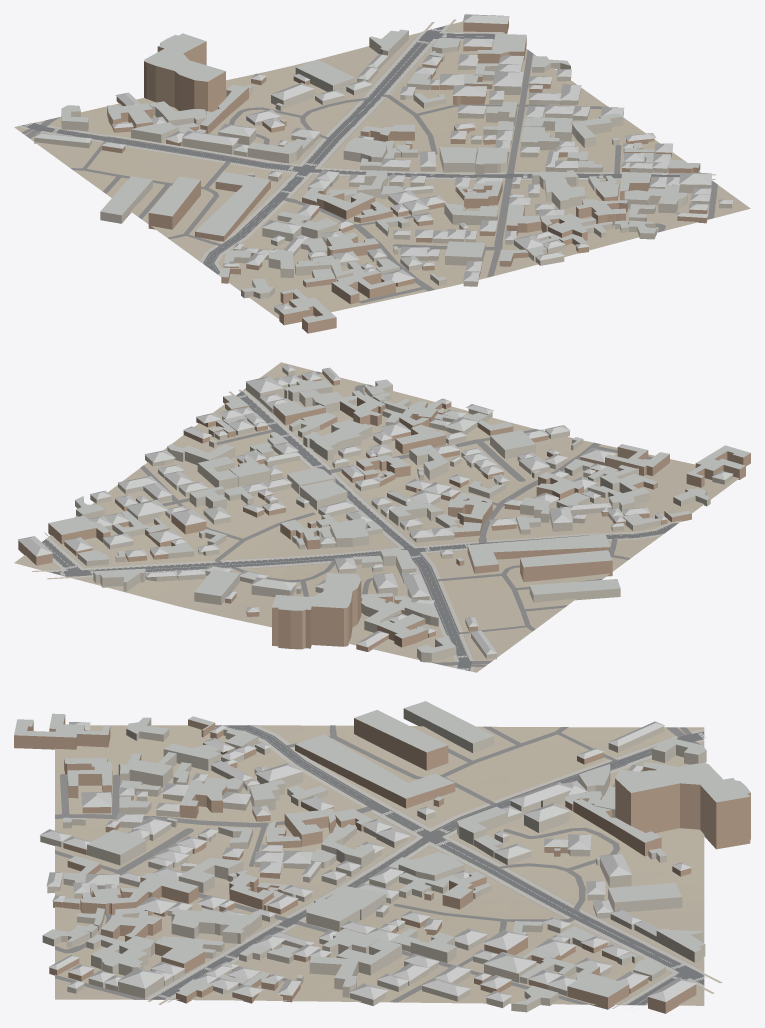
File: bolak_-8_4.glb
3 views of the same model, one above another, from view 1: azimuth 30°, elevation 25°; view 2: azimuth 150°, elevation 25°; view 3: azimuth 270°, elevation 25° (orthographic). The views are drawn at different scales.
Parts seen in each view (by area): view 1: Tom_Shifer, Yer_Tuproq-col, Devor_Suvoq-col, Devor_Gisht-col, Yol_Asfalt-col, Yol_Mahalla-col, Trotuar, Yol_Chiziq, Ariq; view 2: Tom_Shifer, Yer_Tuproq-col, Devor_Suvoq-col, Devor_Gisht-col, Yol_Asfalt-col, Yol_Mahalla-col, Trotuar, Ariq, Yol_Chiziq; view 3: Tom_Shifer, Yer_Tuproq-col, Devor_Suvoq-col, Devor_Gisht-col, Yol_Asfalt-col, Yol_Mahalla-col, Trotuar, Ariq, Yol_Chiziq.
Part boxes in pixels (left/top/right/bottom): Tom_Shifer: left=34, top=14, right=732, bottom=322; Yer_Tuproq-col: left=14, top=21, right=750, bottom=318; Devor_Suvoq-col: left=34, top=31, right=731, bottom=314; Devor_Gisht-col: left=102, top=20, right=707, bottom=333; Yol_Asfalt-col: left=21, top=26, right=679, bottom=274; Yol_Mahalla-col: left=22, top=50, right=717, bottom=303; Trotuar: left=17, top=24, right=712, bottom=276; Yol_Chiziq: left=24, top=24, right=666, bottom=271; Ariq: left=44, top=24, right=708, bottom=261; Tom_Shifer: left=18, top=364, right=750, bottom=654; Yer_Tuproq-col: left=14, top=362, right=738, bottom=672; Devor_Suvoq-col: left=75, top=367, right=732, bottom=662; Devor_Gisht-col: left=18, top=370, right=750, bottom=651; Yol_Asfalt-col: left=41, top=391, right=678, bottom=670; Yol_Mahalla-col: left=140, top=371, right=652, bottom=666; Trotuar: left=43, top=390, right=681, bottom=671; Ariq: left=44, top=394, right=661, bottom=661; Yol_Chiziq: left=37, top=394, right=666, bottom=669; Tom_Shifer: left=14, top=701, right=750, bottom=1004; Yer_Tuproq-col: left=55, top=725, right=704, bottom=1005; Devor_Suvoq-col: left=40, top=708, right=706, bottom=1012; Devor_Gisht-col: left=14, top=715, right=750, bottom=1013; Yol_Asfalt-col: left=150, top=725, right=704, bottom=1005; Yol_Mahalla-col: left=55, top=725, right=700, bottom=1004; Trotuar: left=145, top=725, right=704, bottom=1004; Ariq: left=153, top=737, right=702, bottom=1008; Yol_Chiziq: left=156, top=725, right=707, bottom=1011.
Size of what is drawn, in the model's own units: 436 by 33.51 by 454.
